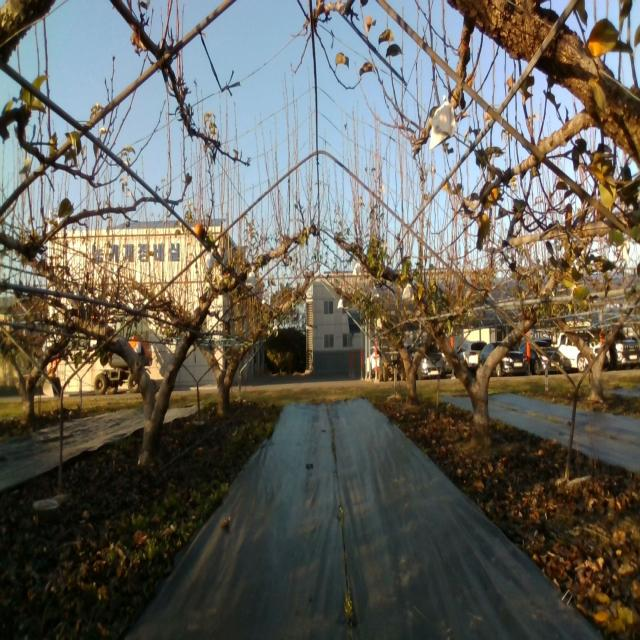pearbags: (429, 94, 455, 152), (205, 248, 215, 275), (402, 283, 414, 301), (246, 271, 256, 289)
